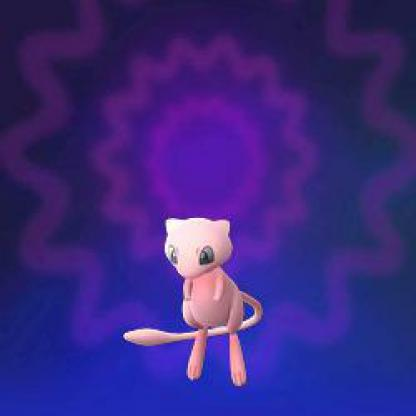Mew: (1, 9, 416, 416)
